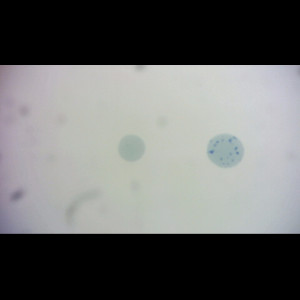aggregate reticulocyte: (205, 132, 245, 169)
erythrocyte: (116, 133, 146, 163)
